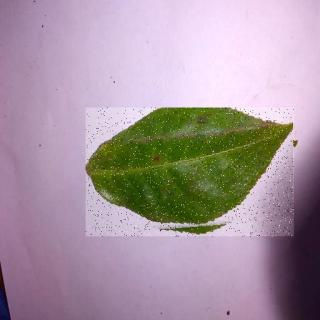Bird Eye Spot: (87, 109, 296, 239)
